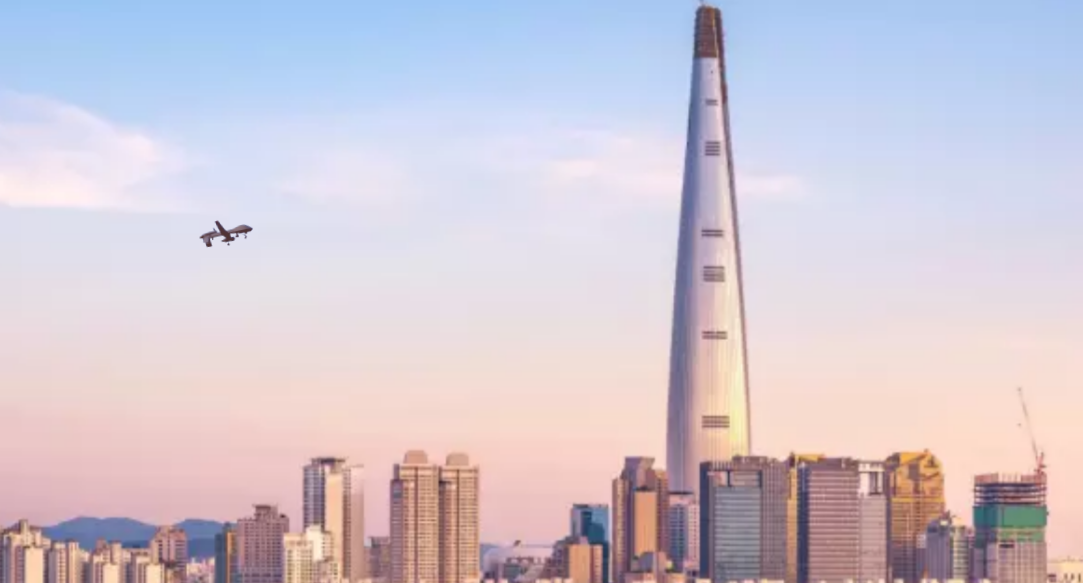military drone: (199, 220, 253, 247)
